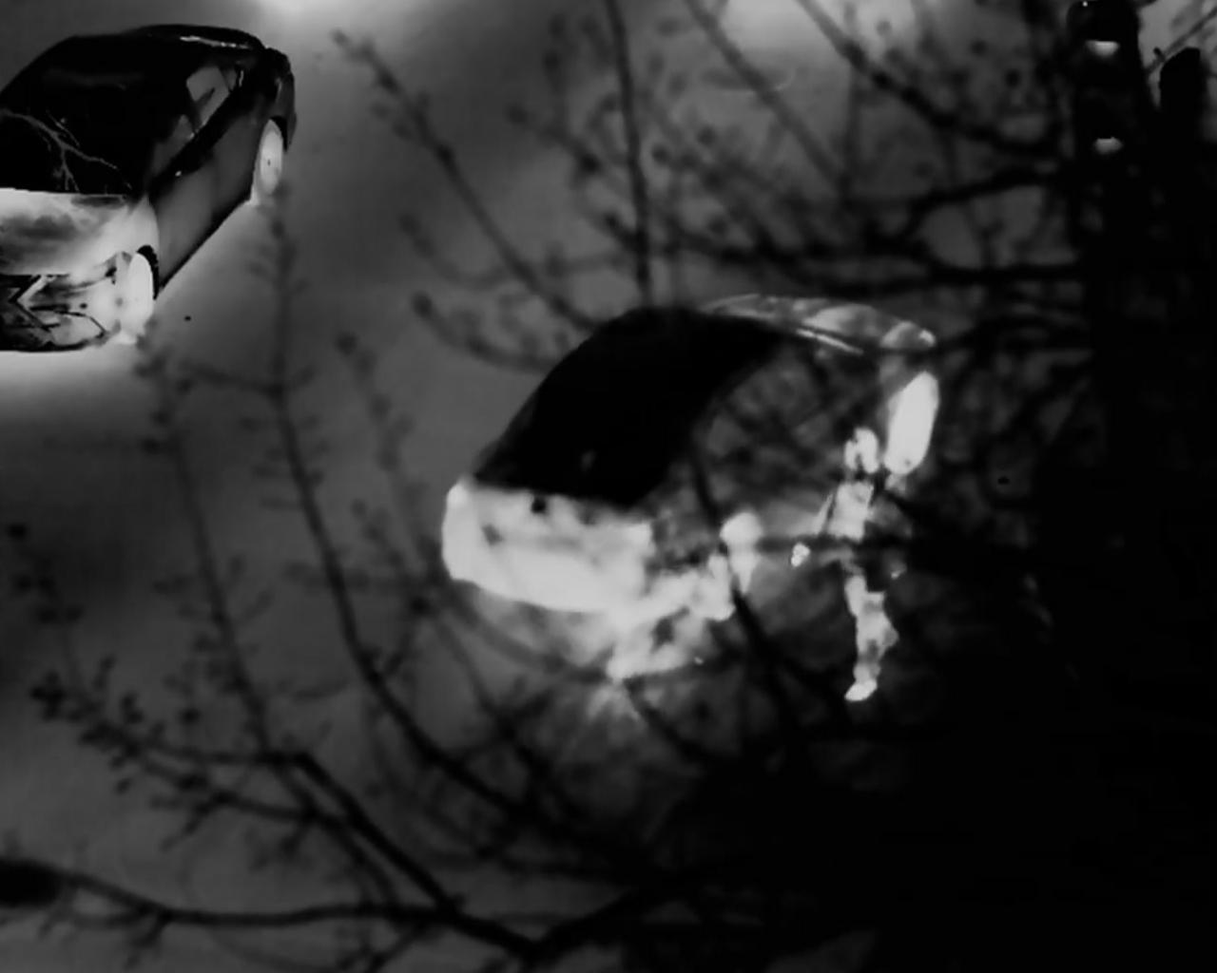person: (800, 424, 906, 704)
